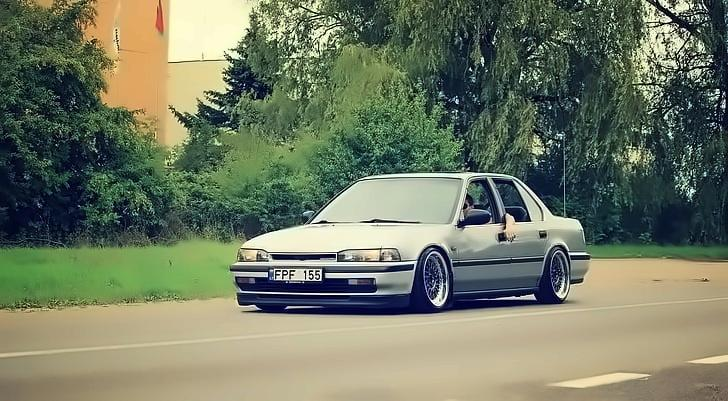Car hood: (239, 221, 458, 263)
Fender - -F-L-: (401, 214, 457, 294)
Fender - -R-L-: (536, 213, 582, 289)
Front bumper: (226, 262, 423, 317)
Headlight - -L-: (333, 244, 404, 266)
Headlight - -R-: (232, 245, 278, 266)
Passenger-s door - -F-L-: (458, 174, 512, 293)
Passenger-s door - -R-L-: (495, 174, 552, 292)
Rear bumper: (563, 250, 594, 288), (575, 222, 591, 249)
Side bumper - -L-: (447, 285, 541, 302)
Side mirror - -L-: (453, 207, 493, 231)
Side mirror - -R-: (297, 207, 318, 227)
